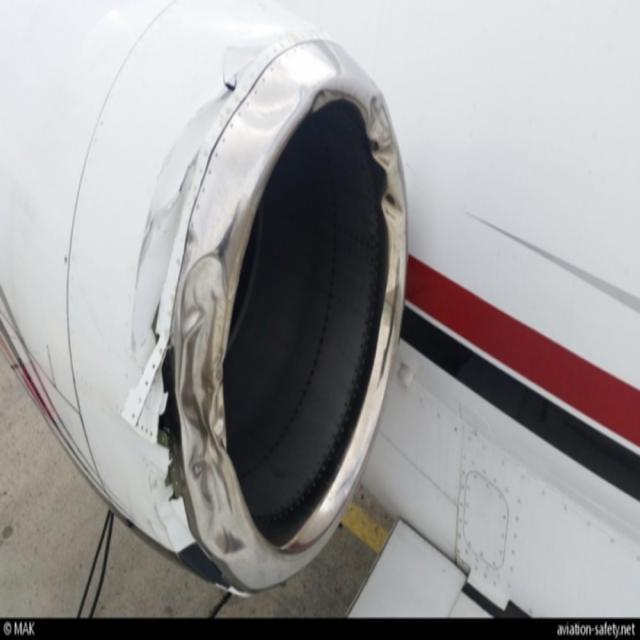dent: (181, 250, 252, 554), (368, 92, 407, 218), (240, 69, 306, 141)
